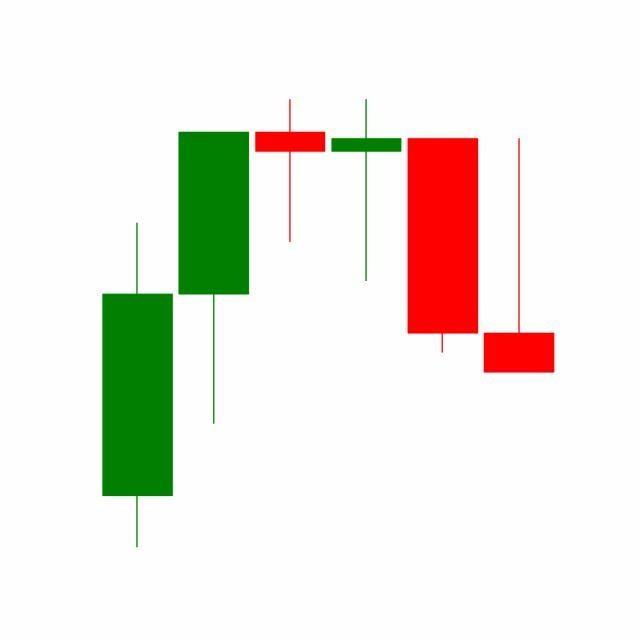Marubozu: (404, 136, 482, 356)
